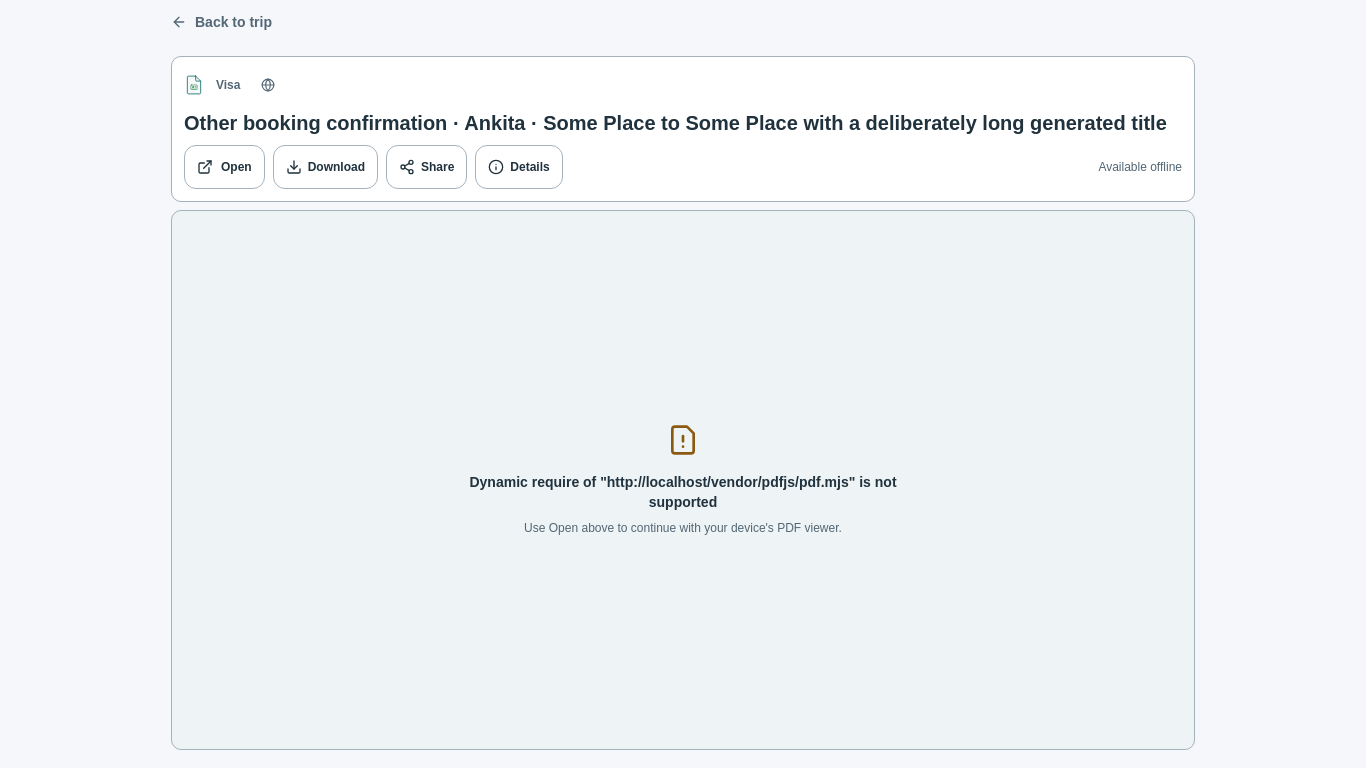
Test: DocumentPage › lets a document manager edit the generated title and traveler assignment
Click the button with aria-label "Document information and actions": x=519, y=167 left=475, top=145, right=563, bottom=189
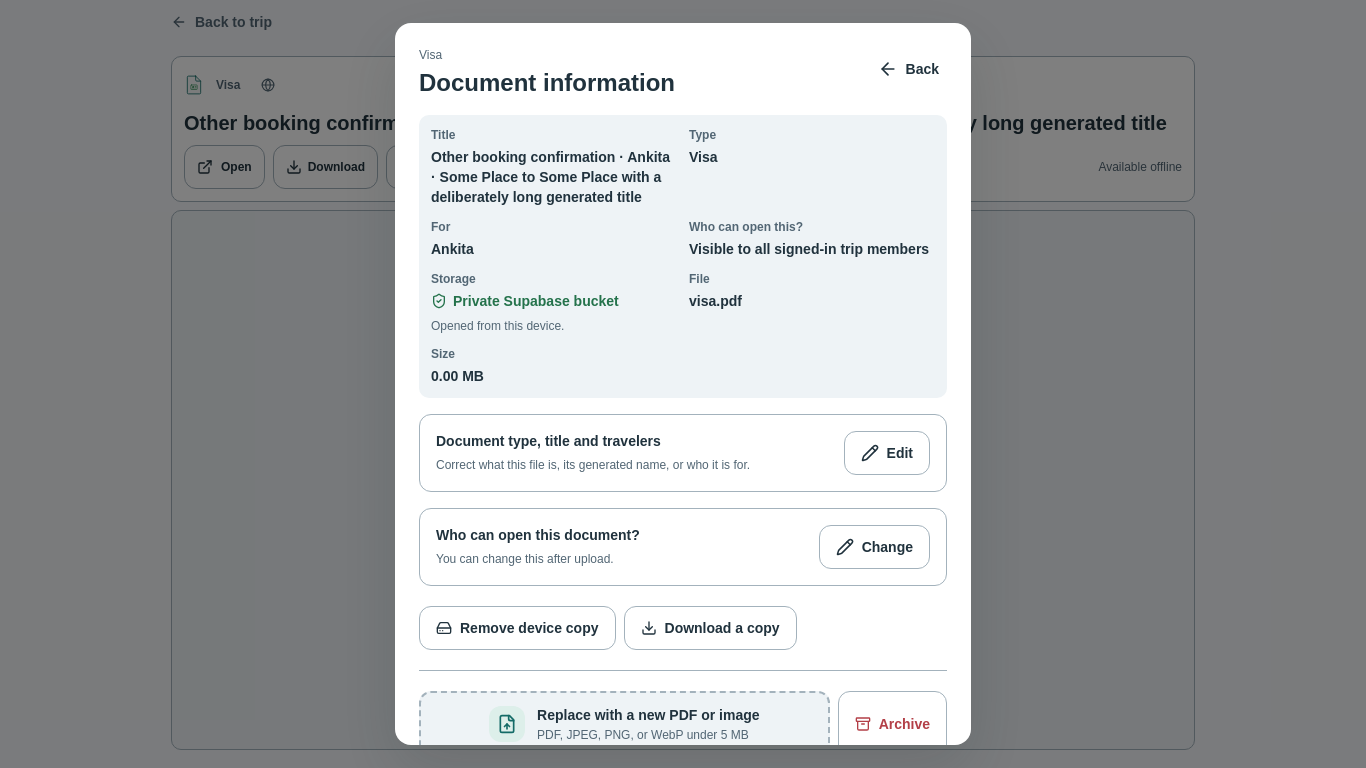
Click the button "Edit": x=887, y=453 left=844, top=431, right=930, bottom=475
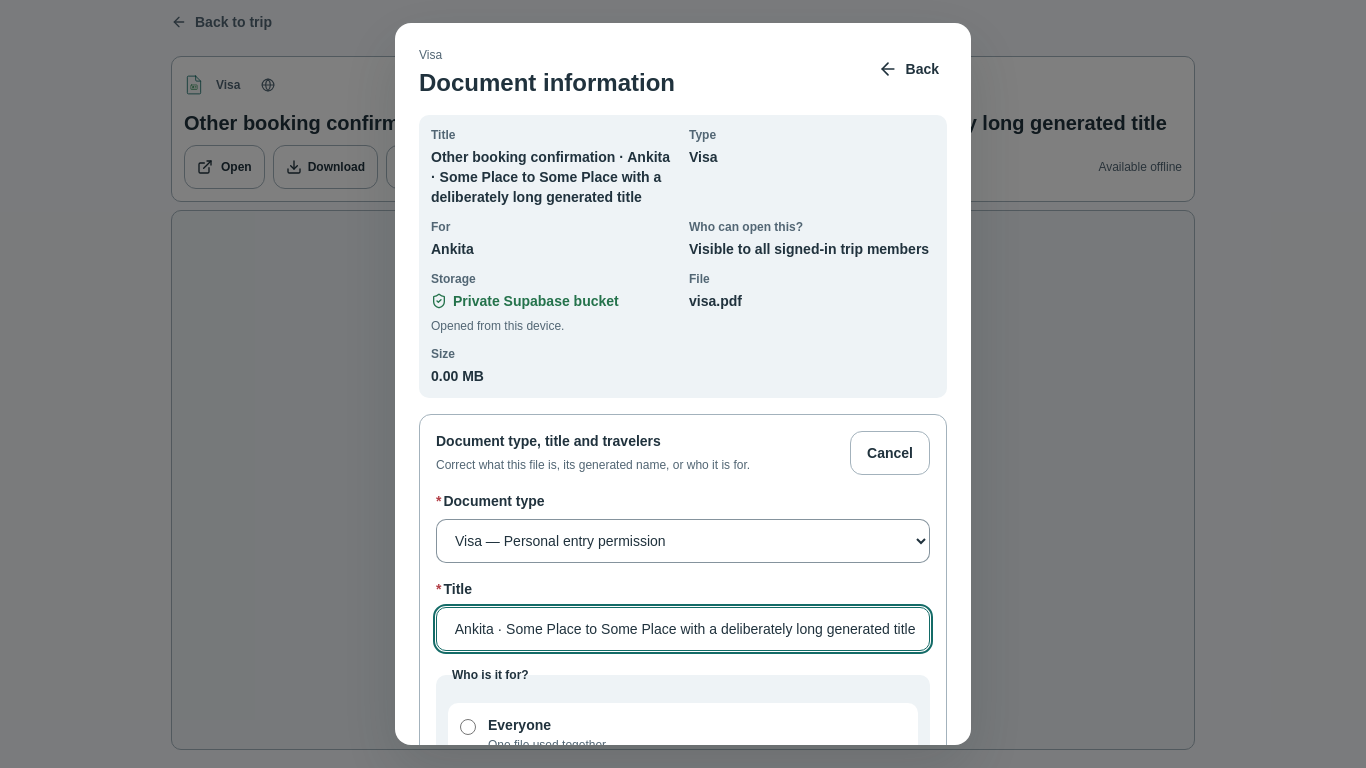
Select "Activity admission ticket — QR, barcode or entry ticket" in the dropdown labelled "Document type": x=683, y=541 left=436, top=519, right=930, bottom=563
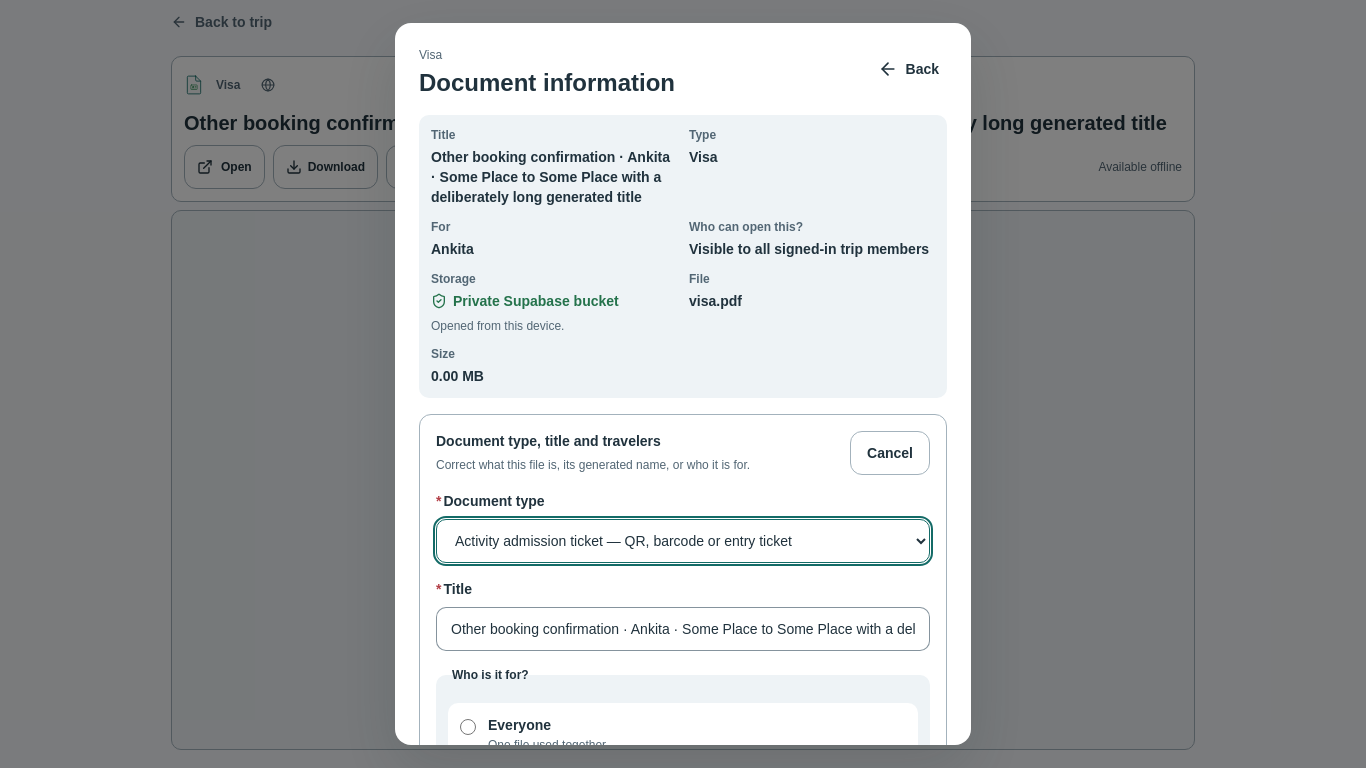
Replace the text in the field labelled "Title" with "Dubai flight tickets": x=683, y=629 left=436, top=607, right=930, bottom=651
(page scrolled)
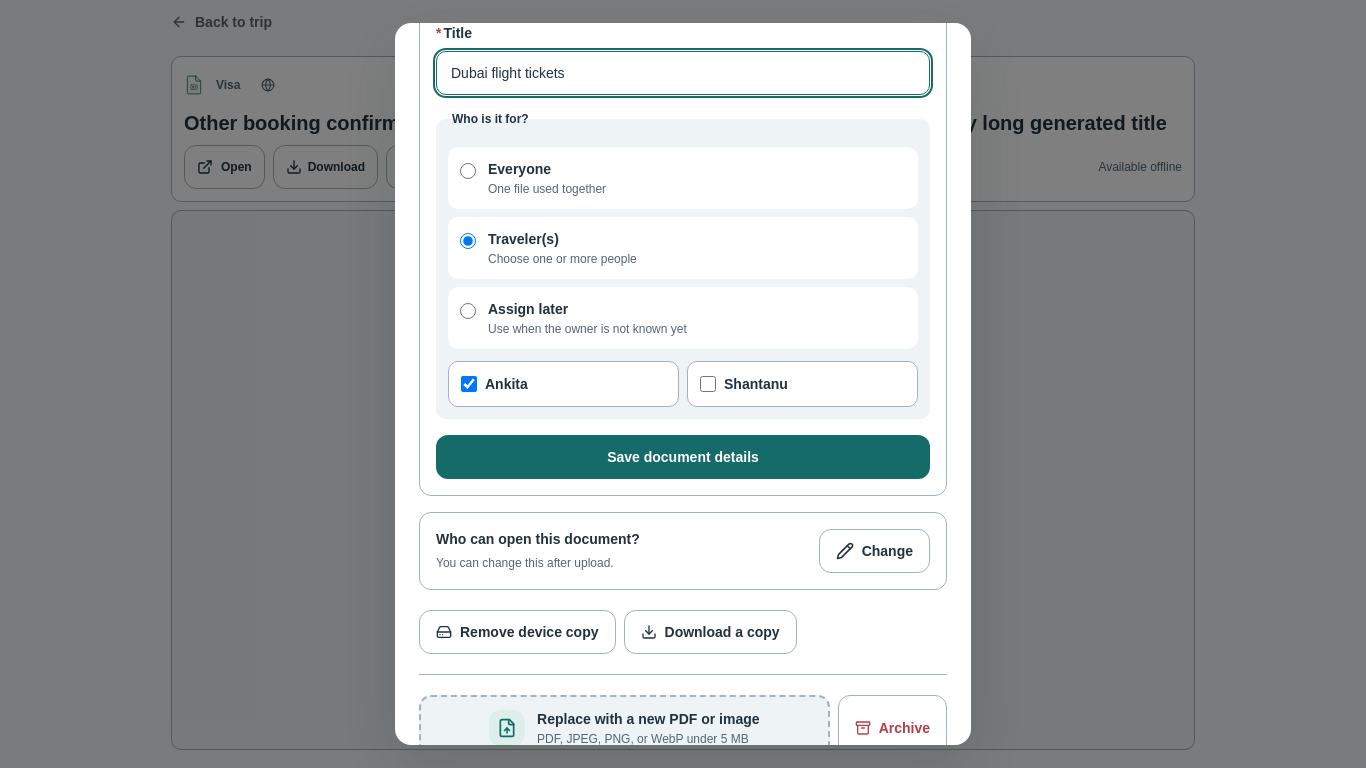
Click the checkbox labelled "Shantanu": x=708, y=384 left=700, top=376, right=716, bottom=392
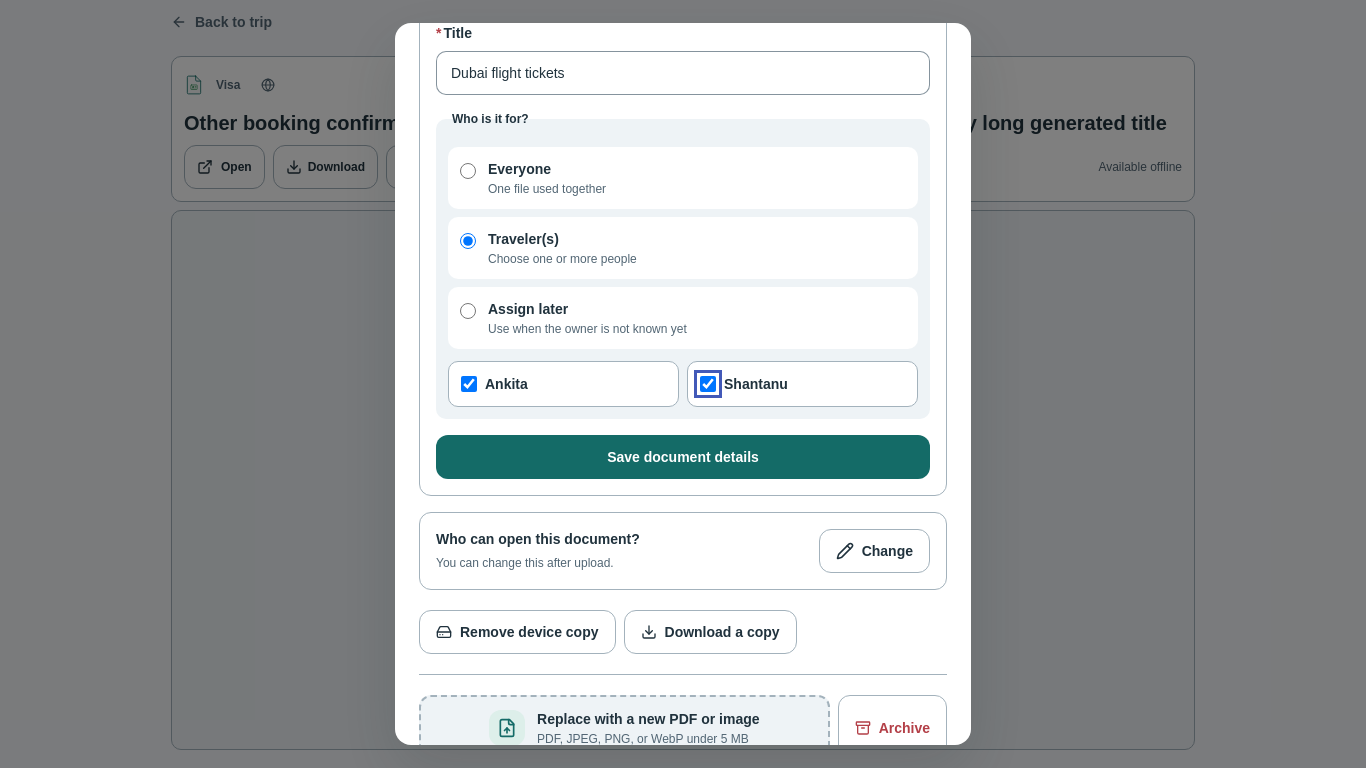
Click the button "Save document details": x=683, y=457 left=436, top=435, right=930, bottom=479
(page scrolled)
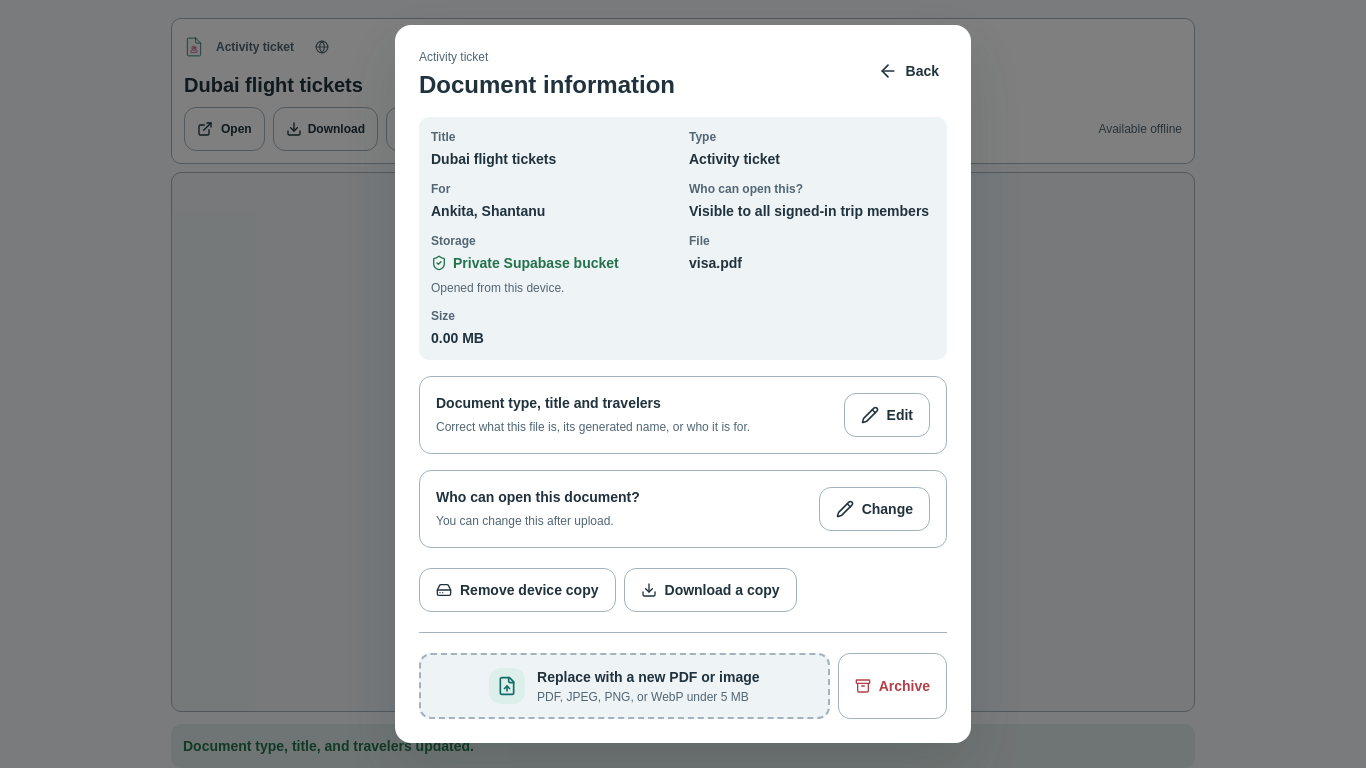
Expected: the message shows "Document type, title, and travelers updated", left=183, top=738, right=474, bottom=754
